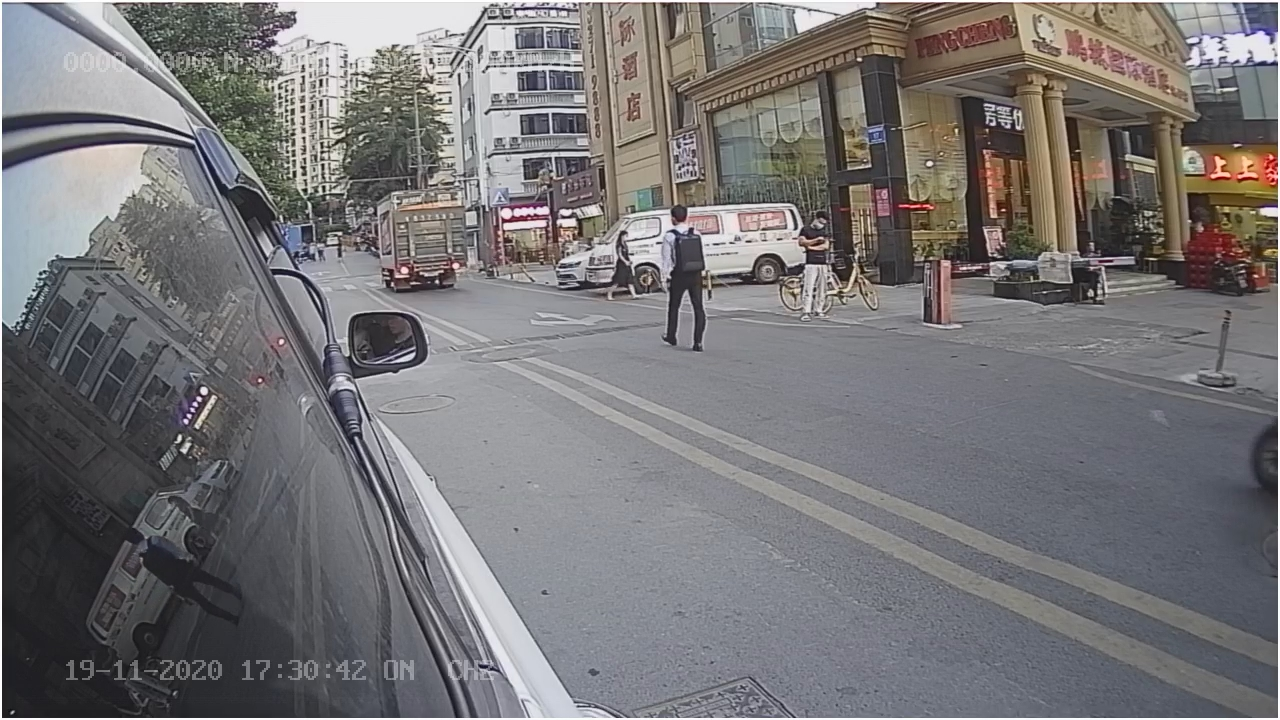person: (654, 204, 715, 351)
